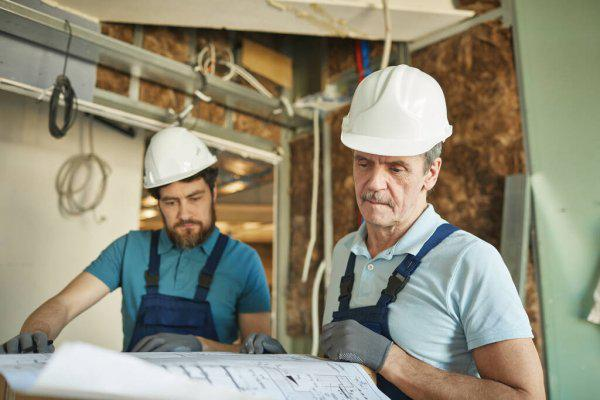hardhat: (342, 66, 454, 158), (143, 128, 219, 190)
worker: (316, 66, 546, 400), (2, 127, 273, 356)
